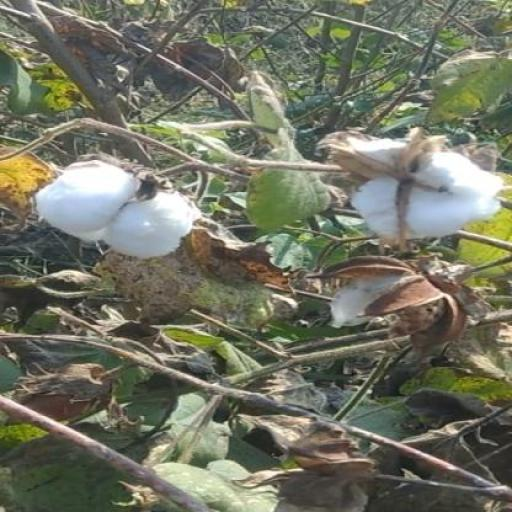cotton_ready: (298, 119, 500, 264), (18, 145, 231, 278)
